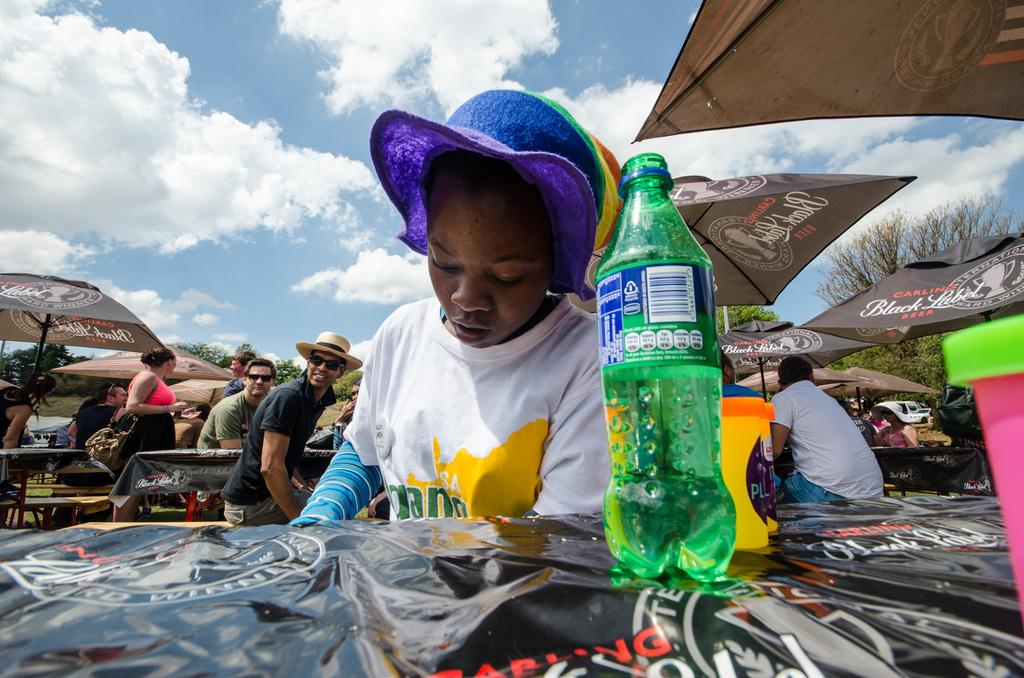Hat: (370, 80, 618, 303), (294, 328, 362, 373)
